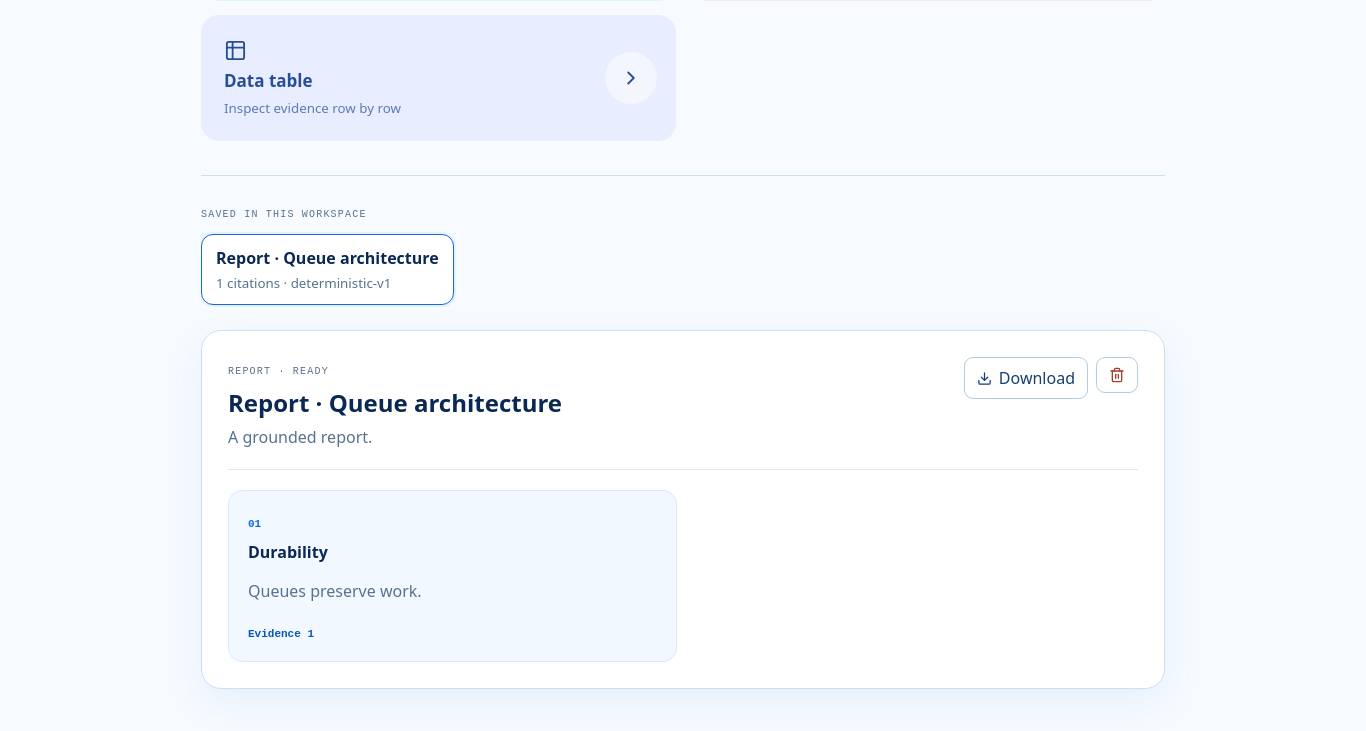
it: StudioView › downloads an evidence package from a saved artifact
The image size is (1366, 731).
(page scrolled)
What coordinates should you click on to do the following:
click the button "Download"
I would click on:
 (1026, 378)
Its box is [964,357,1088,399].
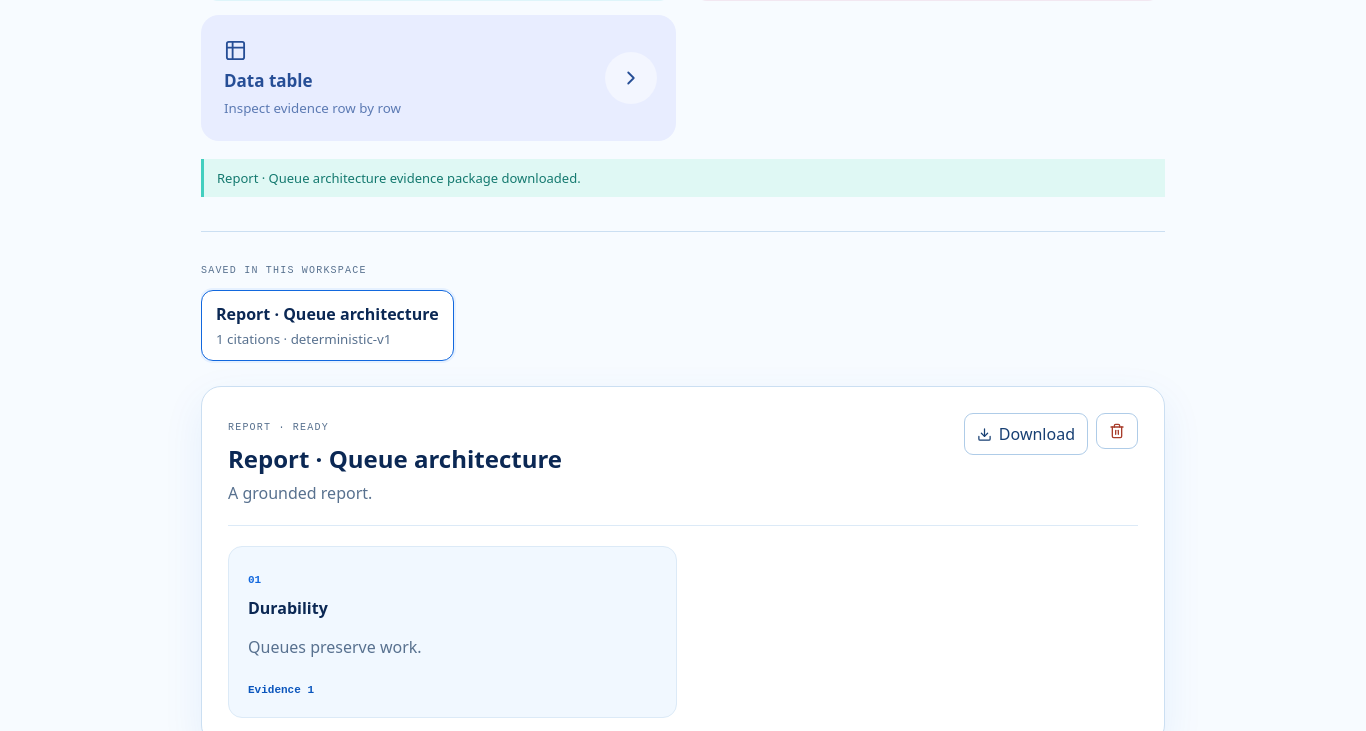
Expected: the text "Report · Queue architecture evidence package downloaded." is shown, [201,159,1165,197]
